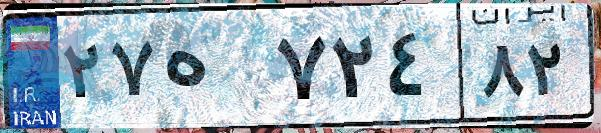2: (330, 28, 385, 110), (57, 26, 110, 100), (525, 38, 570, 115)
4: (385, 28, 445, 110)
7: (270, 28, 330, 110), (110, 28, 158, 98)
8: (475, 38, 525, 113)
ه: (158, 20, 270, 120)
